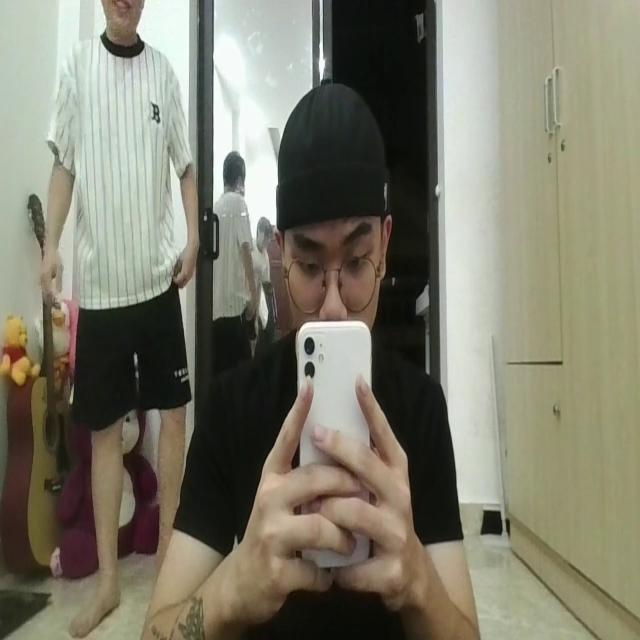extra_person: (28, 0, 194, 632)
phone: (296, 310, 375, 577)
student: (146, 70, 474, 640)
